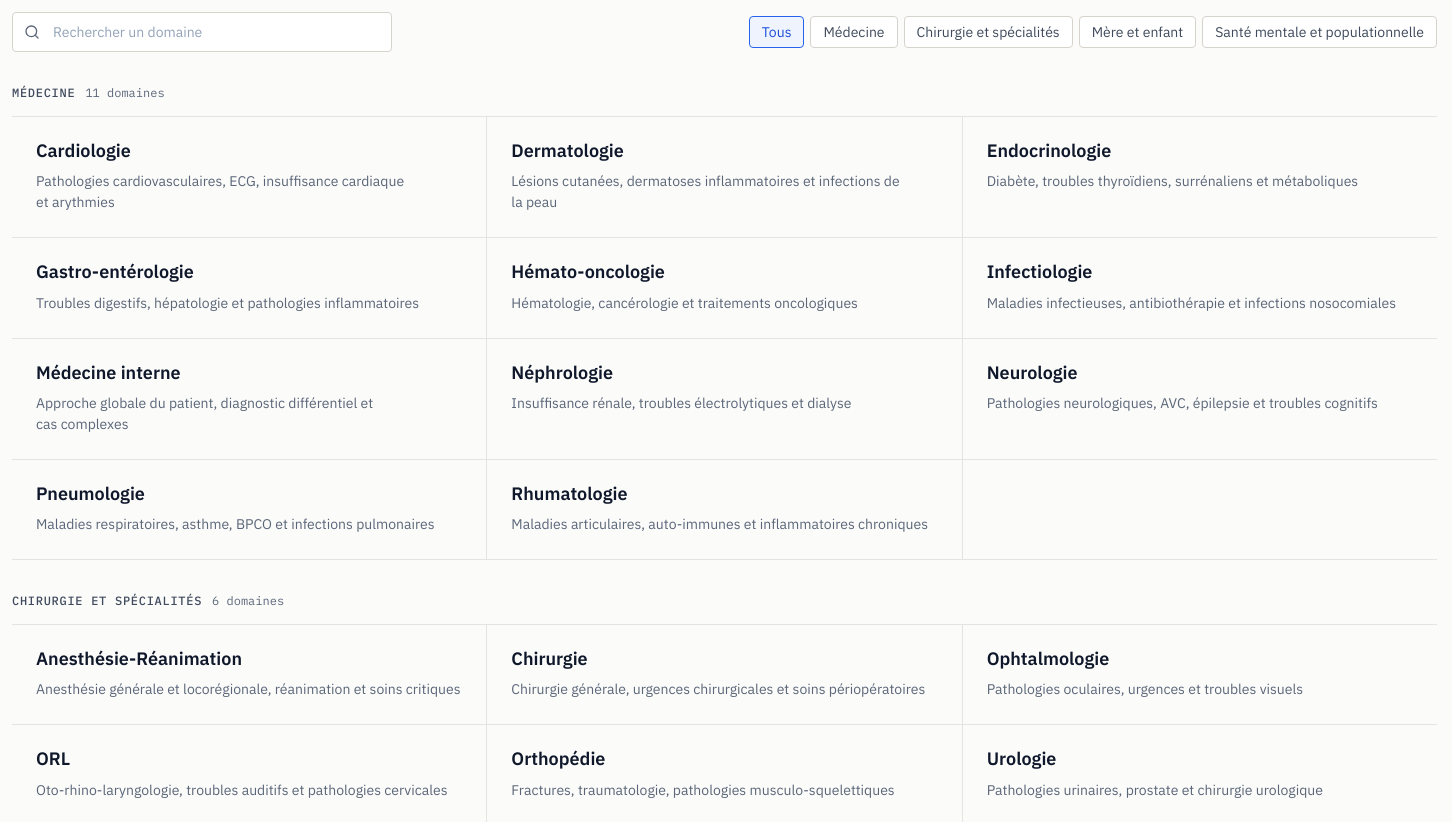
DomainsBrowser › sans correspondance, l'état vide reprend la saisie
Type "  xyz " into the field labelled "Rechercher un domaine".
click(202, 32); type("  xyz ")  # box [12,12,392,52]
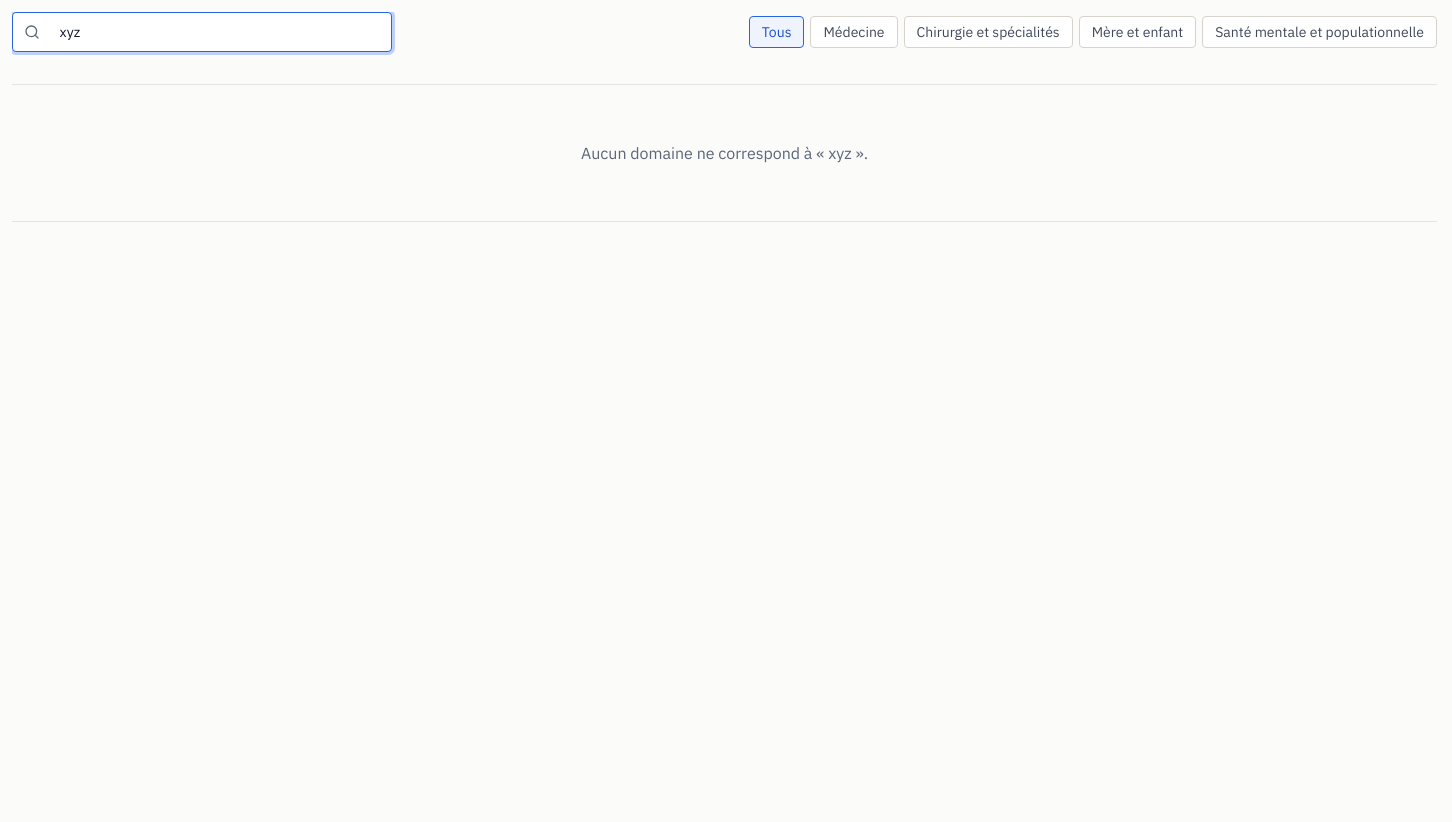
Result: no headings are shown
Result: the text "Aucun domaine ne correspond à « xyz »." is shown at [12,84,1437,222]
